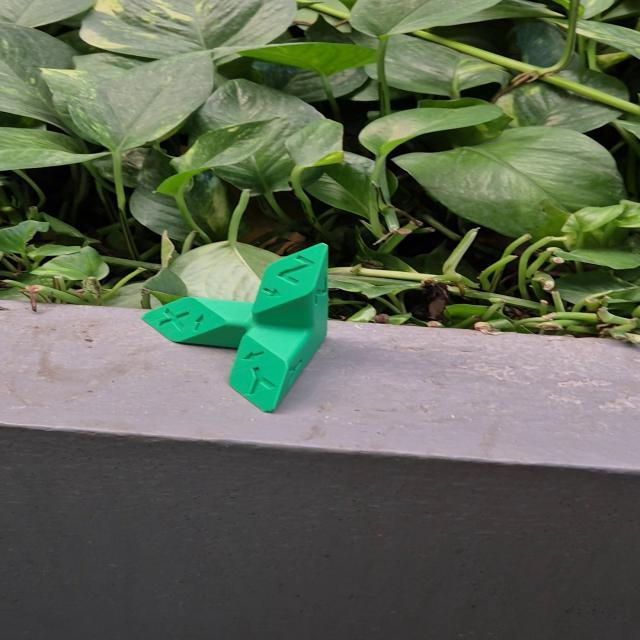objects: (139, 242, 330, 414)
